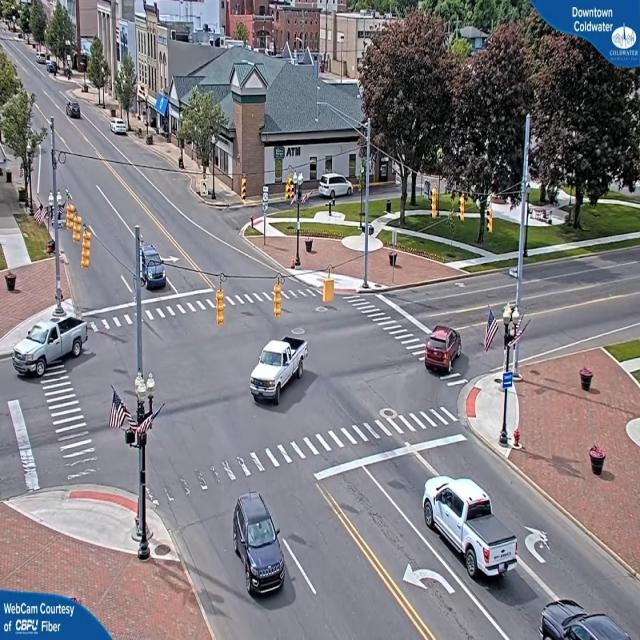car: (422, 476, 514, 584), (232, 496, 286, 597), (11, 315, 85, 380), (250, 338, 307, 406), (539, 602, 640, 639), (424, 327, 464, 375), (137, 241, 167, 290), (321, 176, 352, 199), (111, 120, 129, 136), (66, 103, 81, 121)
